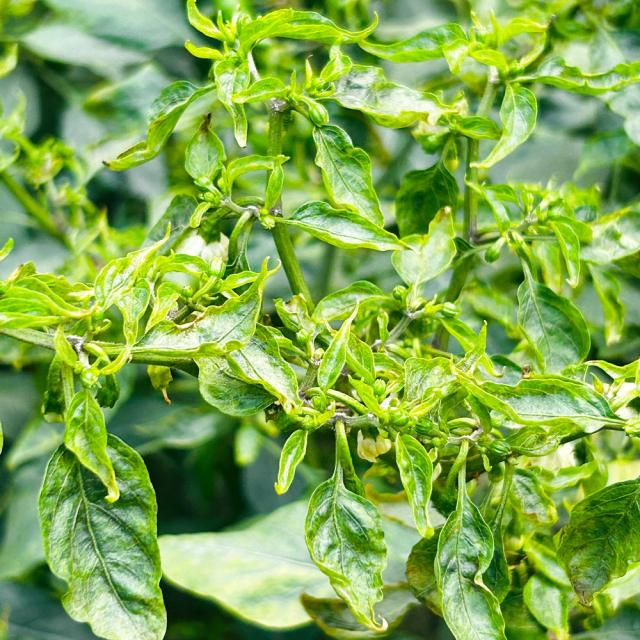Chilli_Leaf_Curl: (1, 1, 638, 638), (36, 429, 168, 639), (302, 465, 388, 632), (554, 477, 639, 608)
